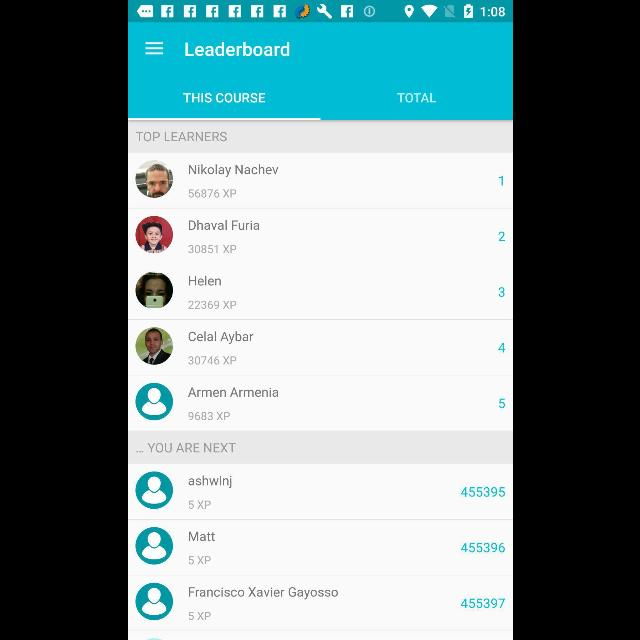icon: (135, 583, 173, 621), (134, 471, 172, 509), (135, 383, 173, 421), (136, 527, 172, 565), (144, 42, 162, 56)
image: (135, 327, 173, 365), (134, 160, 172, 198), (135, 272, 173, 308), (136, 216, 172, 254)
text: (188, 587, 338, 599), (185, 42, 289, 56), (188, 165, 278, 178), (136, 443, 236, 453), (136, 132, 227, 142), (188, 387, 278, 397), (182, 93, 264, 103), (188, 332, 252, 344), (188, 220, 258, 230), (187, 476, 231, 488), (188, 356, 236, 366), (188, 300, 236, 310), (460, 598, 504, 608), (460, 543, 504, 553), (460, 487, 504, 497), (188, 244, 236, 253), (396, 93, 436, 103), (188, 190, 236, 198), (188, 412, 230, 421), (188, 276, 220, 286), (188, 531, 214, 541), (188, 500, 210, 510), (188, 612, 210, 620), (188, 556, 210, 564), (498, 398, 504, 408), (498, 343, 504, 353), (498, 287, 504, 297), (498, 232, 504, 242), (498, 177, 502, 186)
uppertaskbar: (128, 1, 512, 23)
